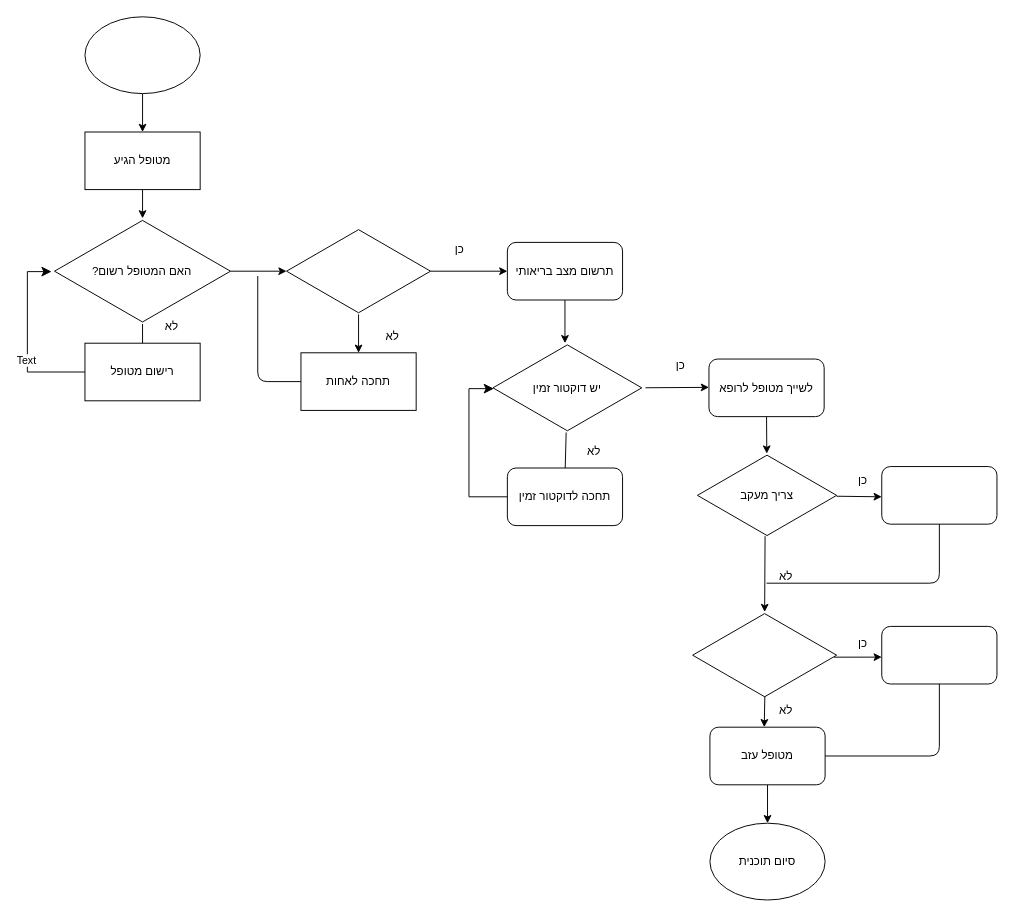
Image size: 1014x917. Some labels were removed from this diagram. The shapes that lost their labels are listed below. From the top down, each one's box as (x1, y1, x2, y2) in pixels, then its label:
(84, 16, 200, 94): התחלה
(286, 227, 431, 314): יש אחות זמינה
(881, 466, 997, 524): תקבע פגישה
(692, 611, 837, 698): צריך תרופות
(881, 625, 997, 684): תן מרשם למטופל
